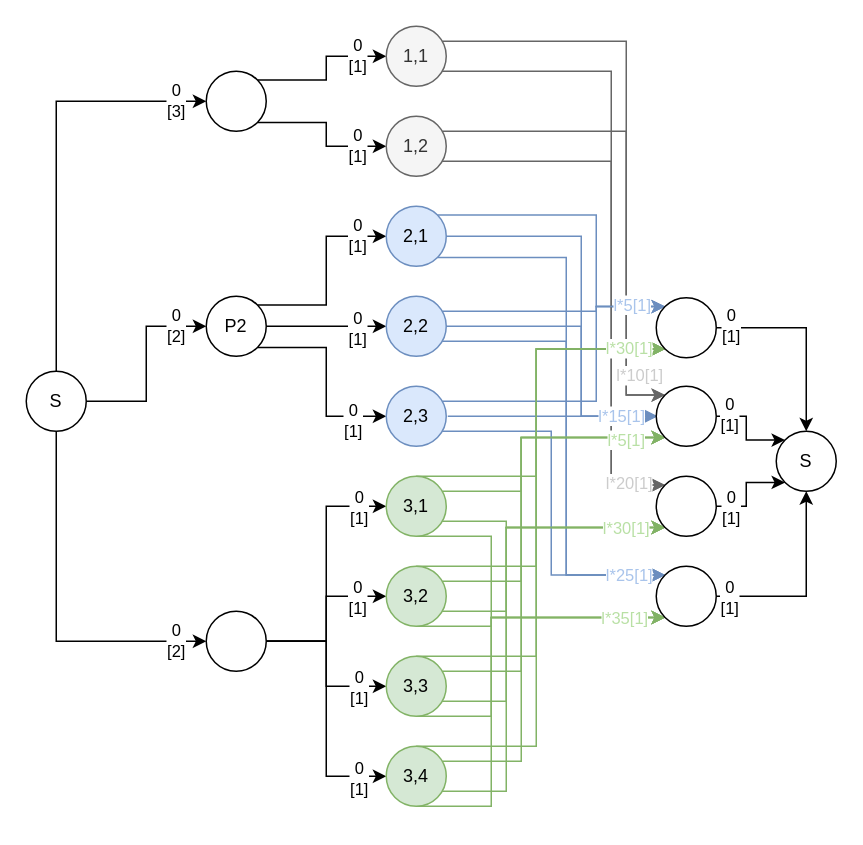
This 863x845 diagram has some shape labels left out. Each missing label, with the box of its shape:
P1: (205, 70, 266, 131)
P3: (205, 610, 266, 671)
Z1: (655, 296, 716, 358)
Z2: (655, 385, 716, 446)
Z3: (655, 475, 716, 536)
Z4: (655, 565, 716, 626)
